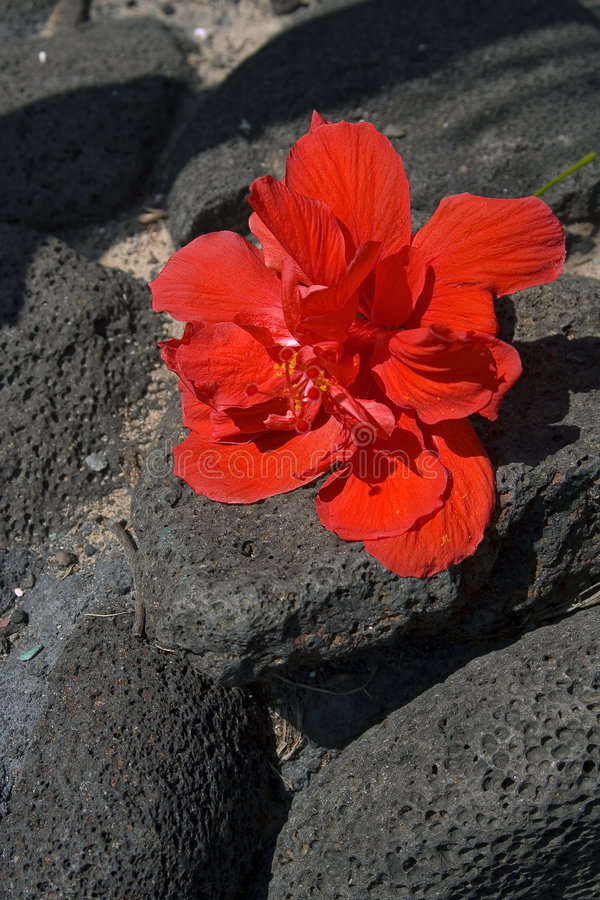Hibiscus: (157, 123, 564, 585)
